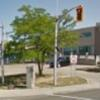traffic lights: (76, 5, 83, 22)
